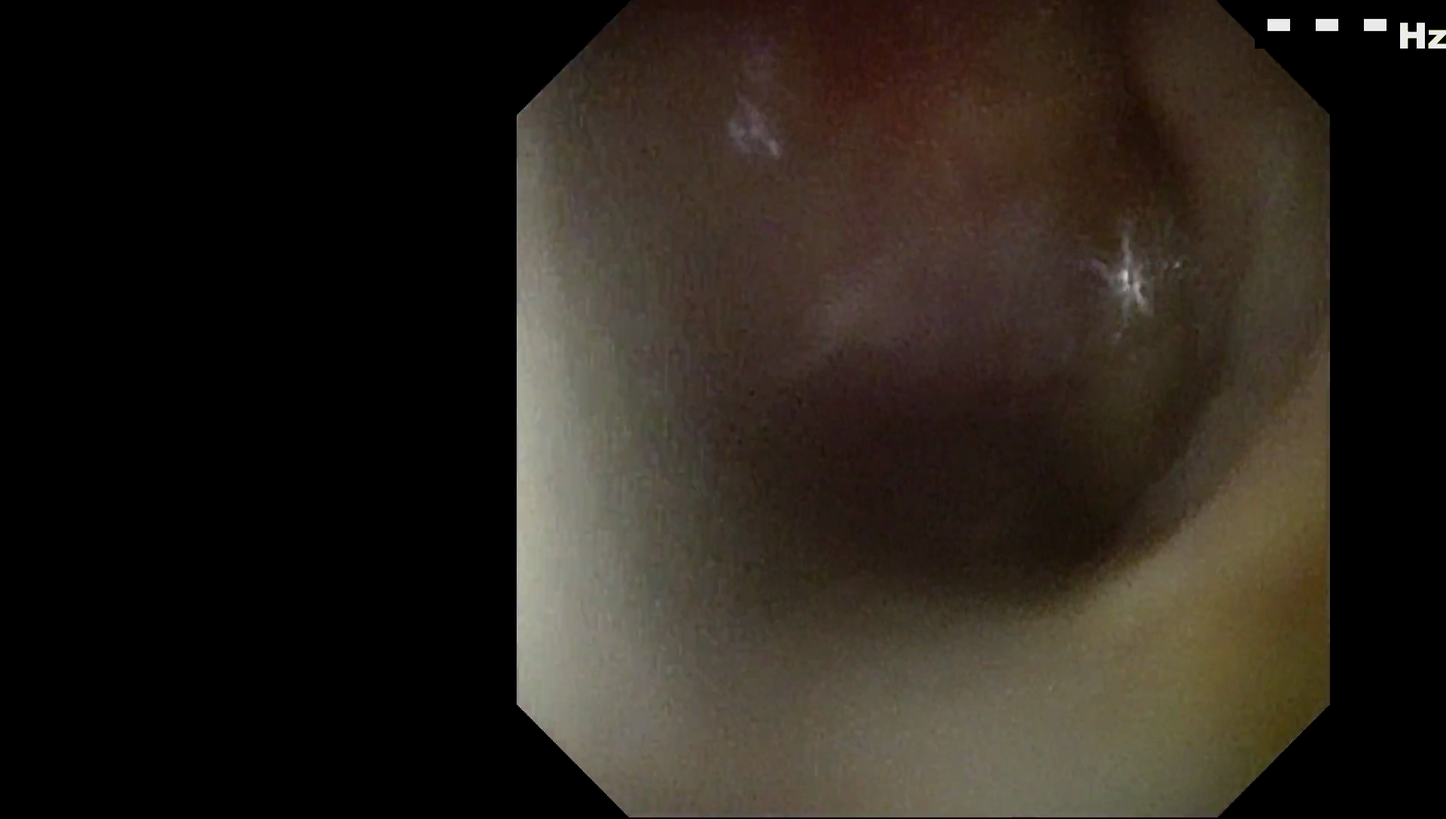next: (949, 363, 1177, 614)
